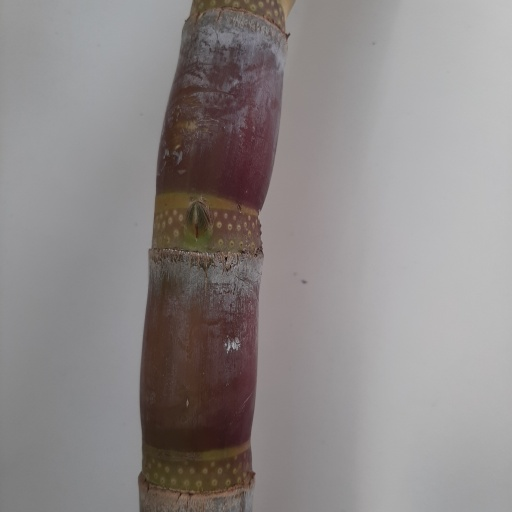Bud: (187, 201, 211, 244)
